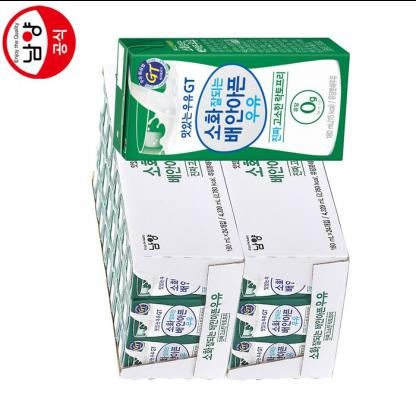tetra: (95, 13, 357, 173)
